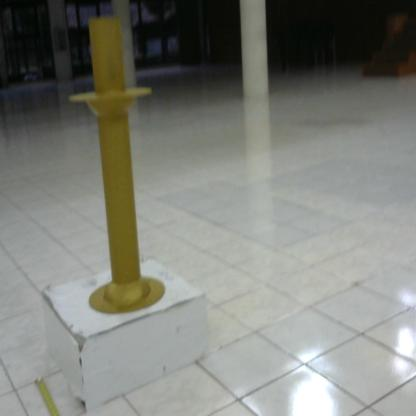pole: (66, 12, 175, 318)
